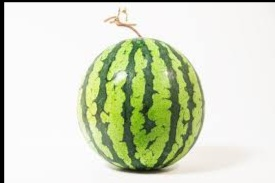watermelon: (74, 36, 205, 172)
